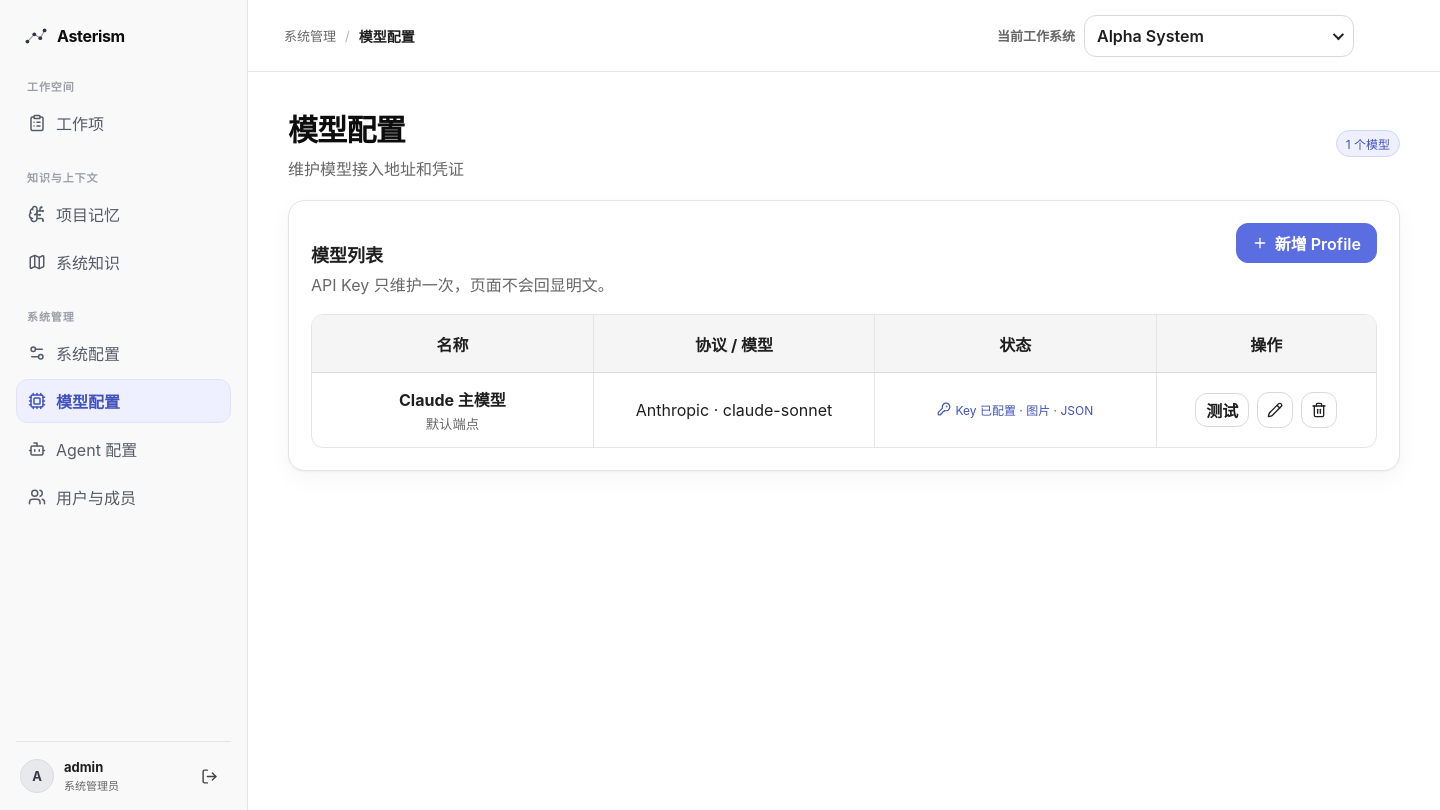
Test: model connectivity test renders 连接正常 status
Click the button with aria-label "测试 Claude 主模型". click: (1222, 410)
box: top-left (1195, 393), bottom-right (1249, 427)
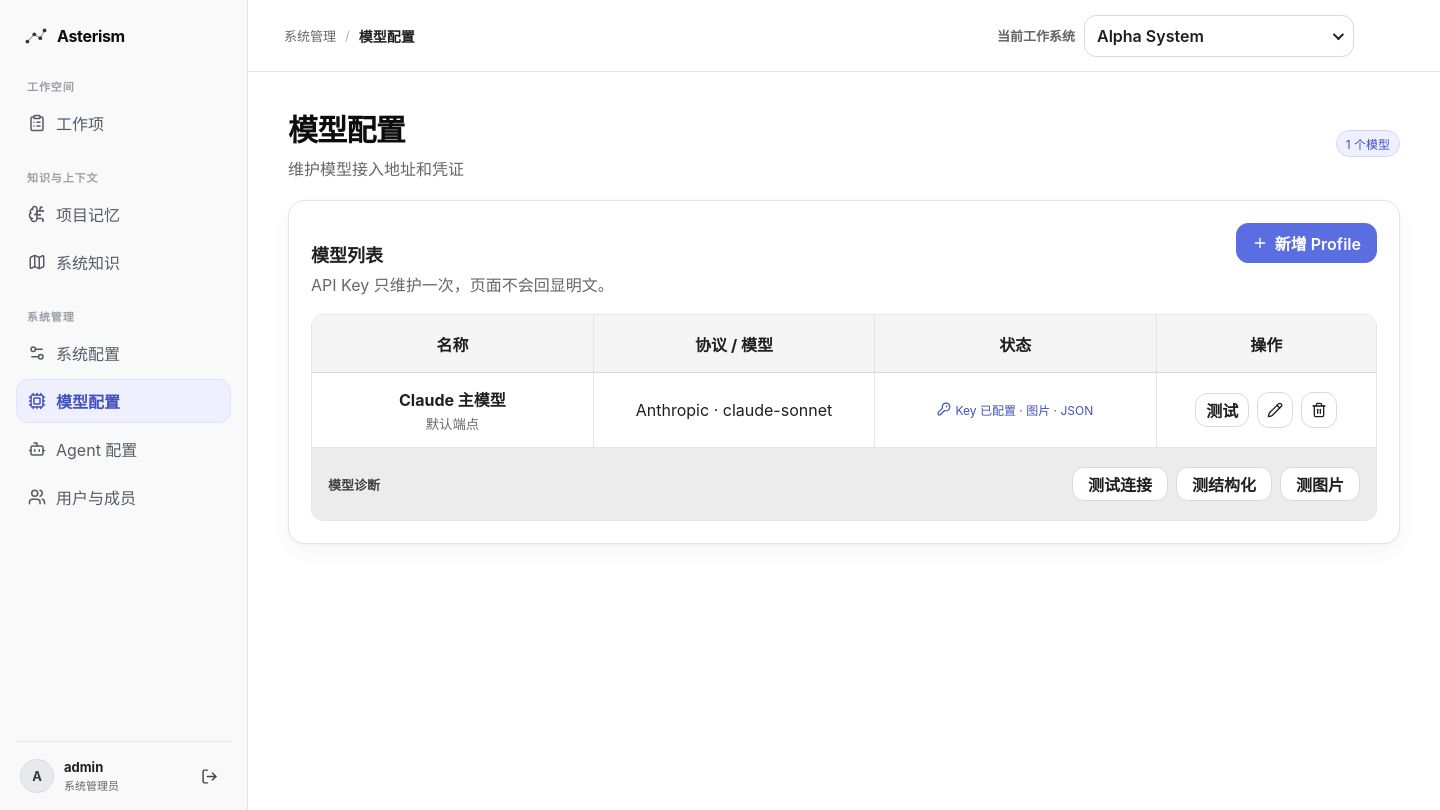
Click the button with aria-label "测试 Claude 主模型连通性". click: (1120, 484)
box: top-left (1072, 467), bottom-right (1168, 501)
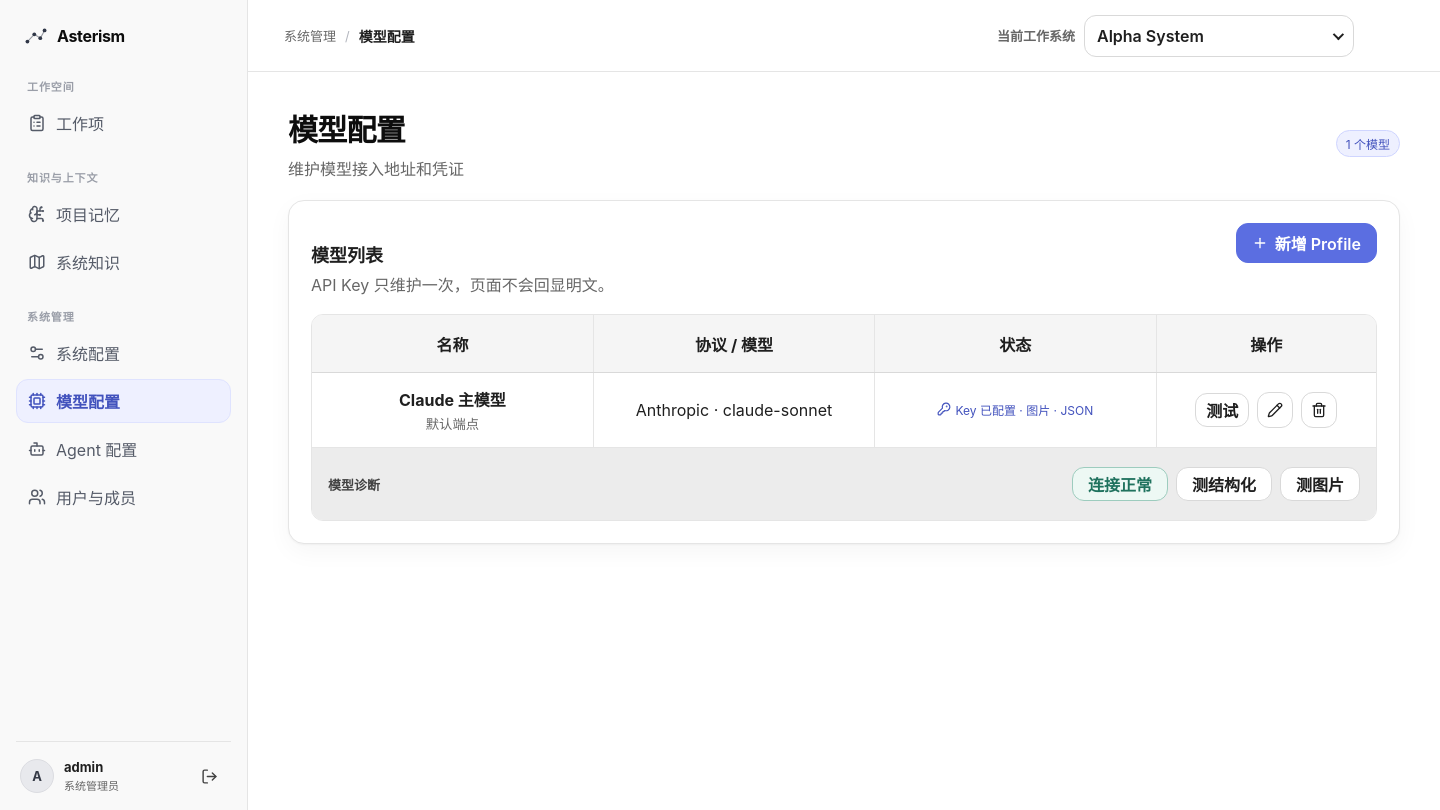
expect the button with aria-label "测试 Claude 主模型连通性" reads "连接正常": met, box top-left (1072, 467), bottom-right (1168, 501)
